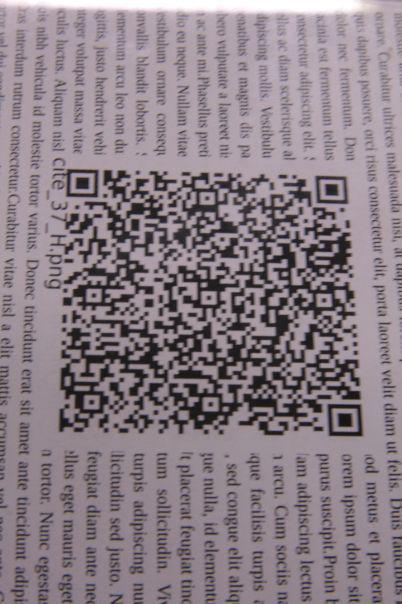Finder pattern: (326, 401, 369, 441), (313, 171, 354, 210), (62, 165, 103, 200)
